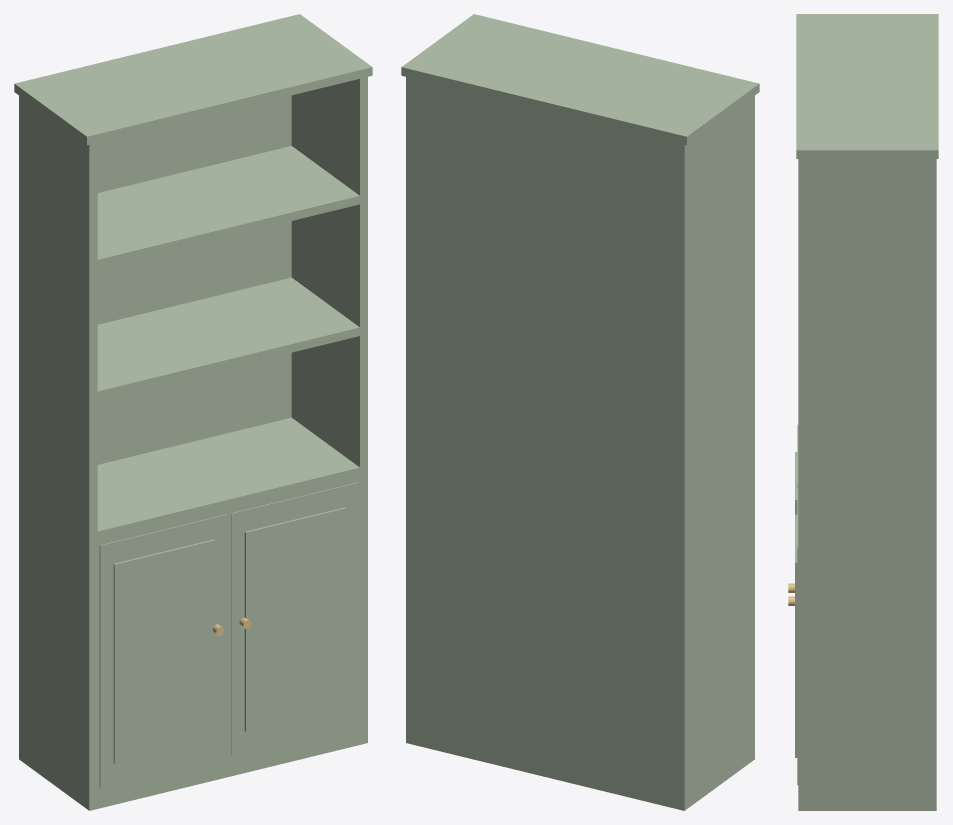
The model's file is obj-bookcase-sage-cabinet.glb.
3 views of the same model, side by side, from view 1: azimuth 30°, elevation 25°; view 2: azimuth 150°, elevation 25°; view 3: azimuth 270°, elevation 25° (orthographic). The views are drawn at different scales.
Visible parts, largest first — view 1: obj-bookcase-sage-cabinet; view 2: obj-bookcase-sage-cabinet; view 3: obj-bookcase-sage-cabinet.
Part boxes in pixels (bbox=[...]): obj-bookcase-sage-cabinet: bbox=[14, 14, 372, 810]; obj-bookcase-sage-cabinet: bbox=[401, 14, 759, 810]; obj-bookcase-sage-cabinet: bbox=[788, 14, 938, 810].
Size of the model in its own units: 0.8399 by 1.9 by 0.3911.
